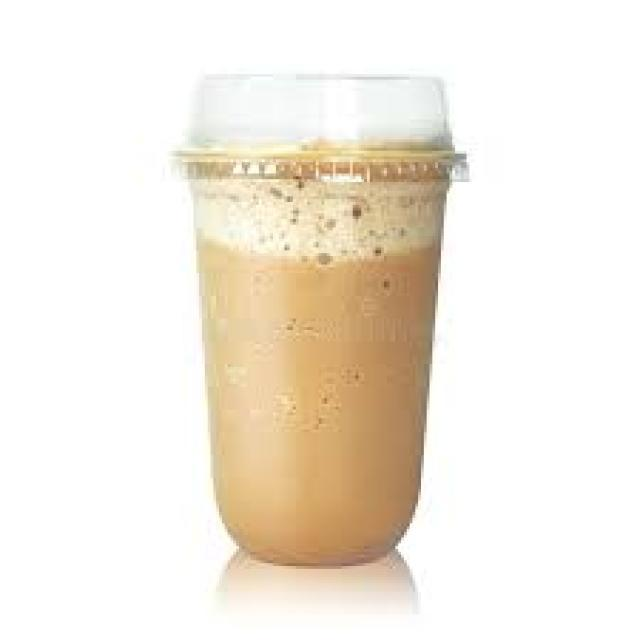cup: (184, 148, 460, 563)
